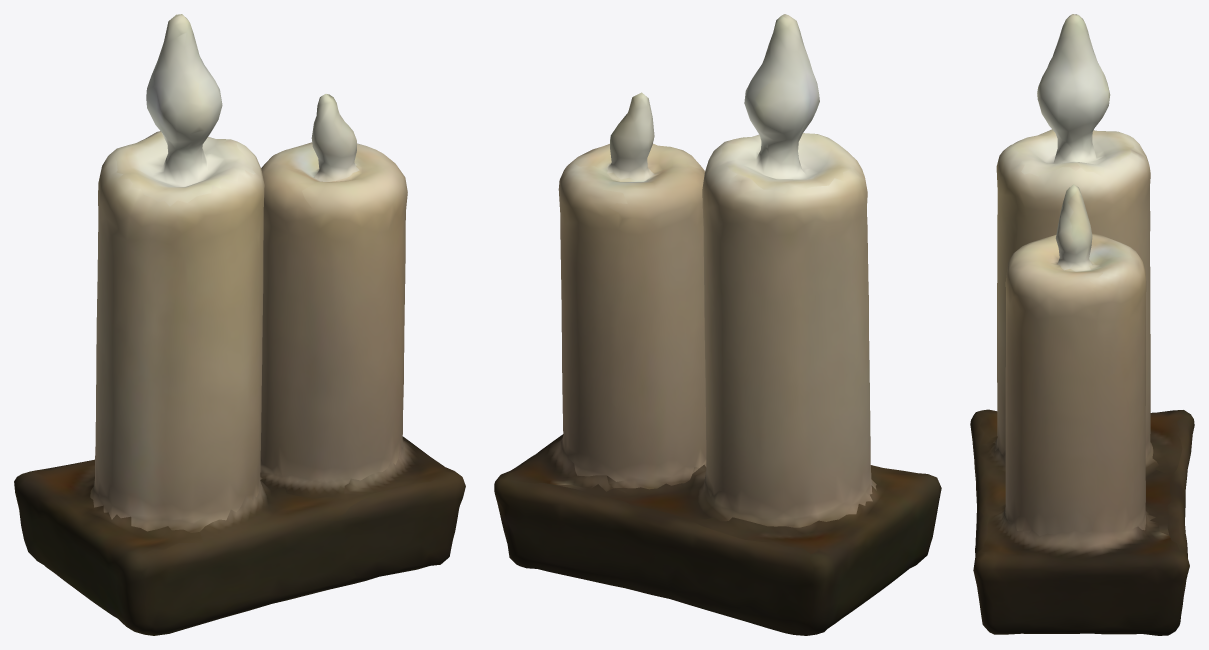
Rendered from halloween-candles.glb.
The picture shows the model from 3 angles, left to right: view 1: azimuth 30°, elevation 25°; view 2: azimuth 150°, elevation 25°; view 3: azimuth 270°, elevation 25°; orthographic projection. The views are drawn at different scales.
Parts seen in each view (by area): view 1: geometry_0; view 2: geometry_0; view 3: geometry_0.
Part boxes in pixels (bbox=[...]): geometry_0: bbox=[14, 14, 465, 635]; geometry_0: bbox=[494, 14, 941, 635]; geometry_0: bbox=[970, 14, 1194, 635].
Size of the model in its own units: 0.5 by 0.8013 by 0.3082.
Materials: 1 (1 with a texture image).
